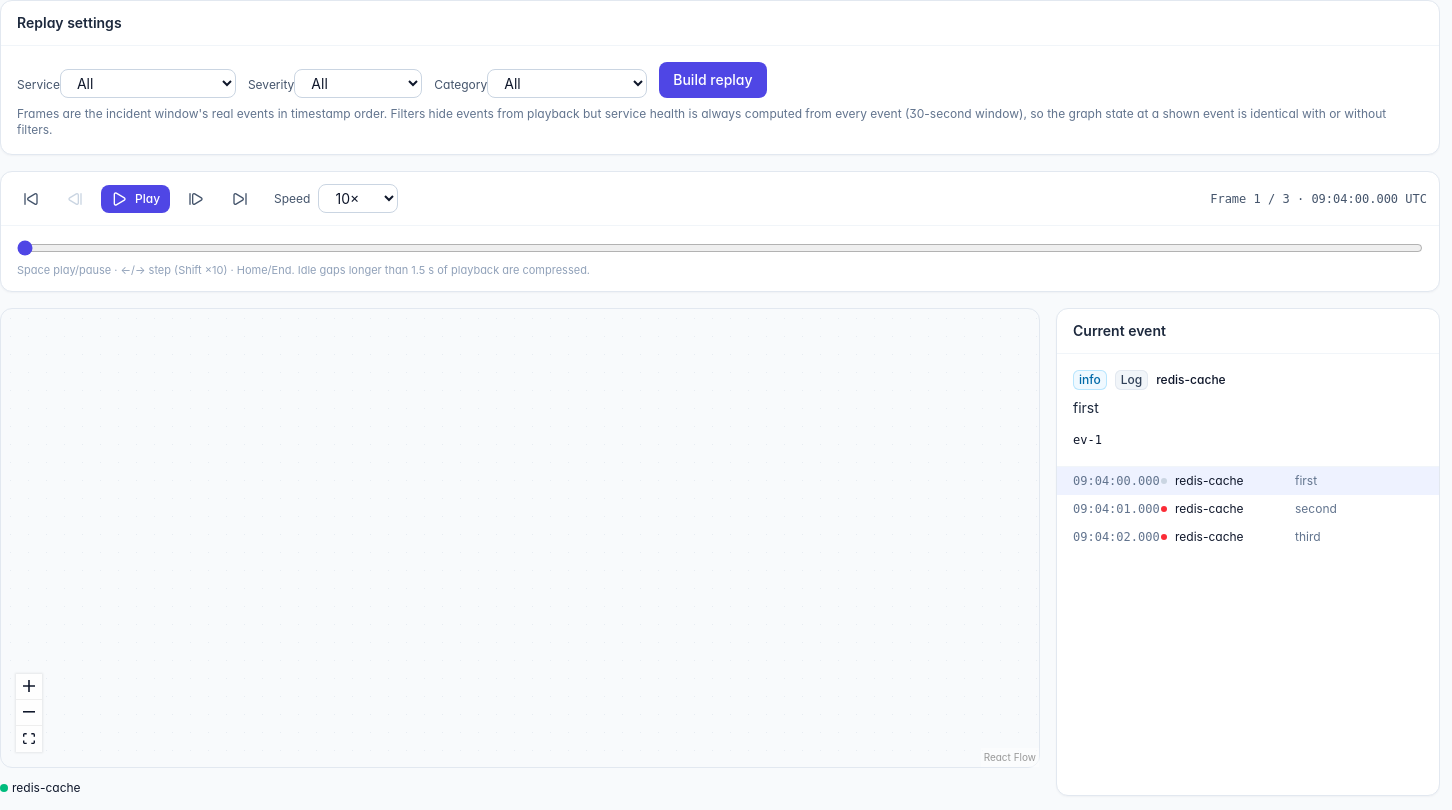
Test: play advances frames on its own and pause stops it
The image size is (1452, 810).
Select "60×" in the dropdown named "Playback speed" at (358,198), box [318, 184, 398, 213]
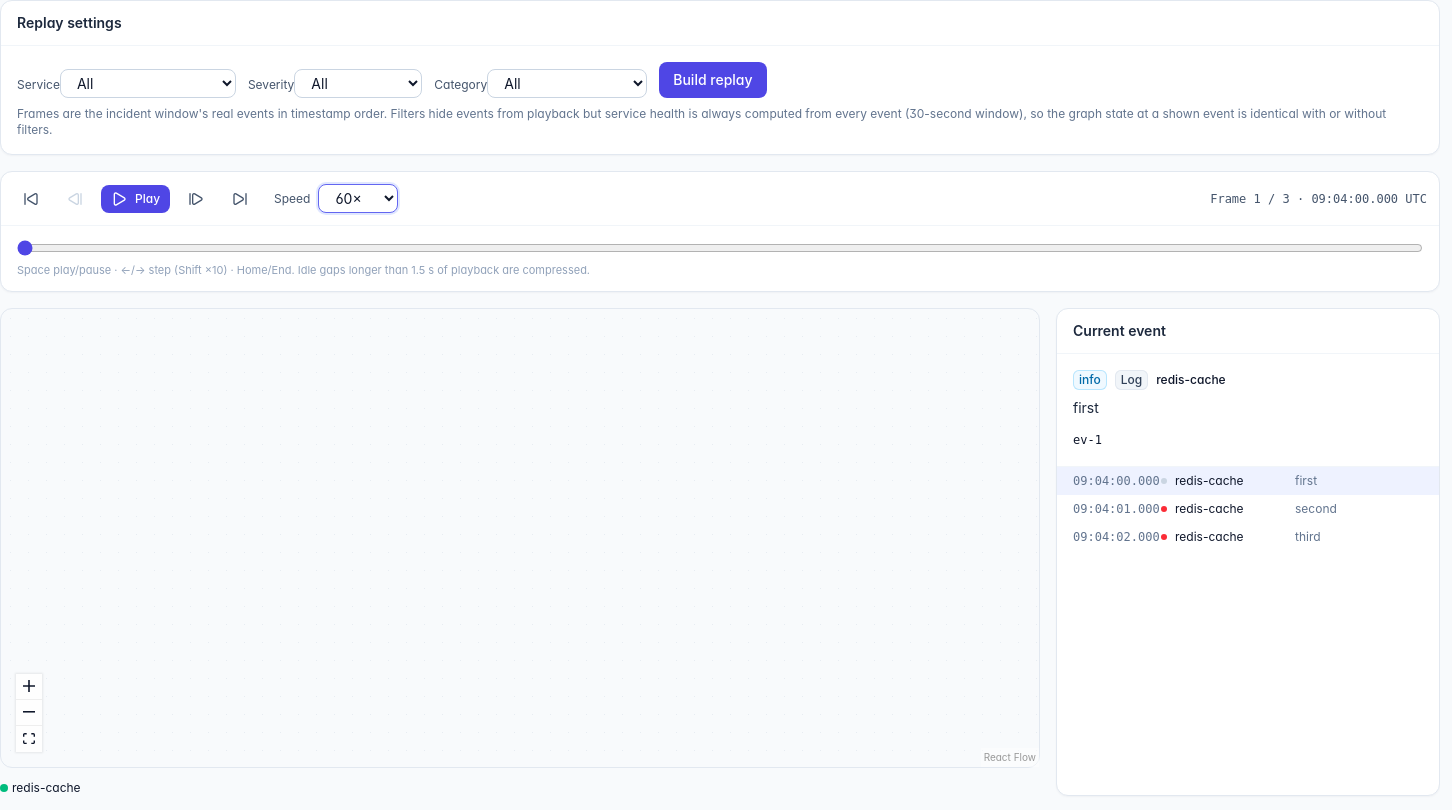
Click the button "Play" at (136,198), box [101, 184, 170, 212]
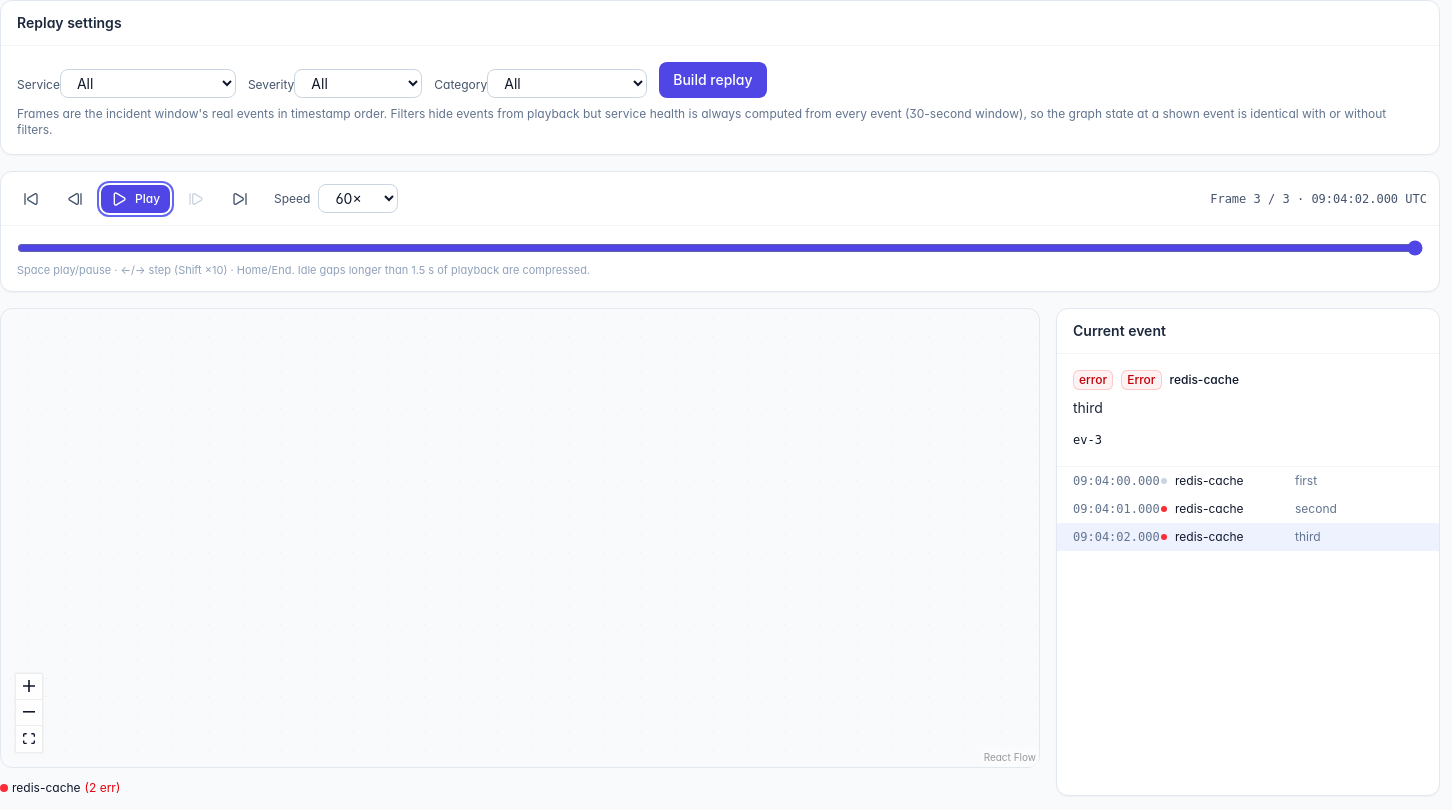
expect the text "Frame 3 / 3 · 09:04:02.000 UTC" is shown: met, box [1210, 190, 1427, 206]
